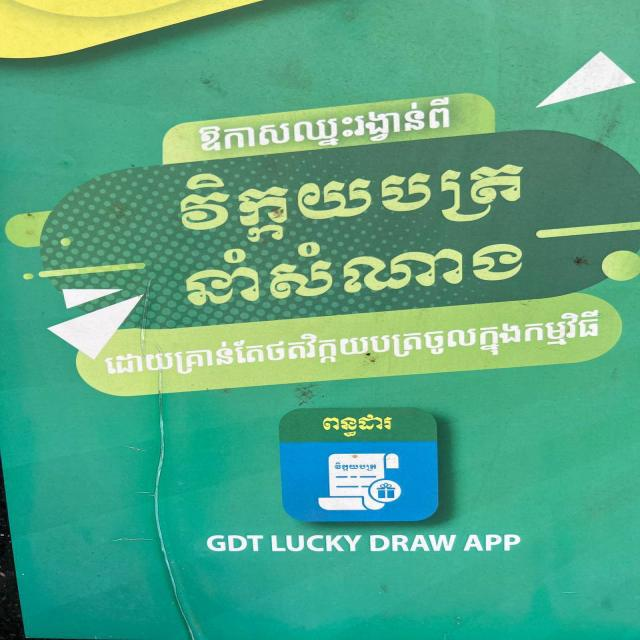Yolov11_80vkh: (100, 304, 613, 386), (171, 148, 533, 254), (176, 225, 535, 318), (186, 93, 462, 164), (312, 408, 399, 441)
